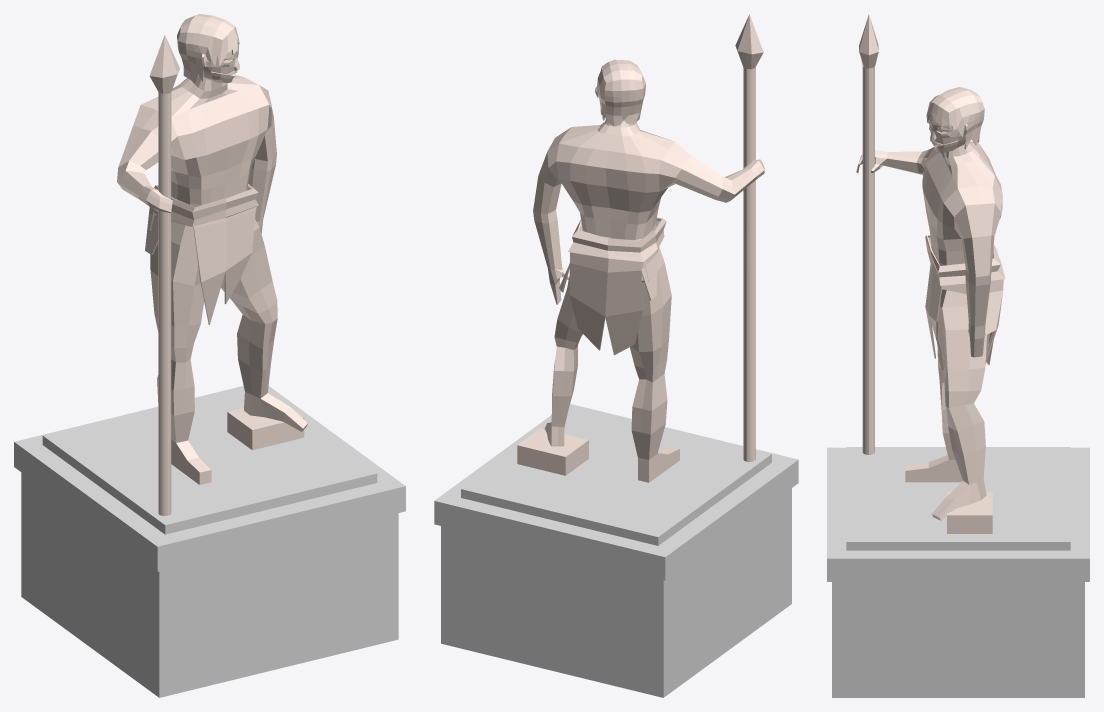
File: carrarastatue.fbx
The picture shows the model from 3 angles, left to right: view 1: azimuth 30°, elevation 25°; view 2: azimuth 150°, elevation 25°; view 3: azimuth 270°, elevation 25°; orthographic projection. The views are drawn at different scales.
Visible parts, largest first — view 1: carrarastatue; view 2: carrarastatue; view 3: carrarastatue.
Boxes of the visible parts, x1,y1,x2,y2 form: carrarastatue: (14,14,405,697); carrarastatue: (434,14,798,697); carrarastatue: (827,14,1089,697).
Size of the model in its own units: 162 by 400 by 162.
